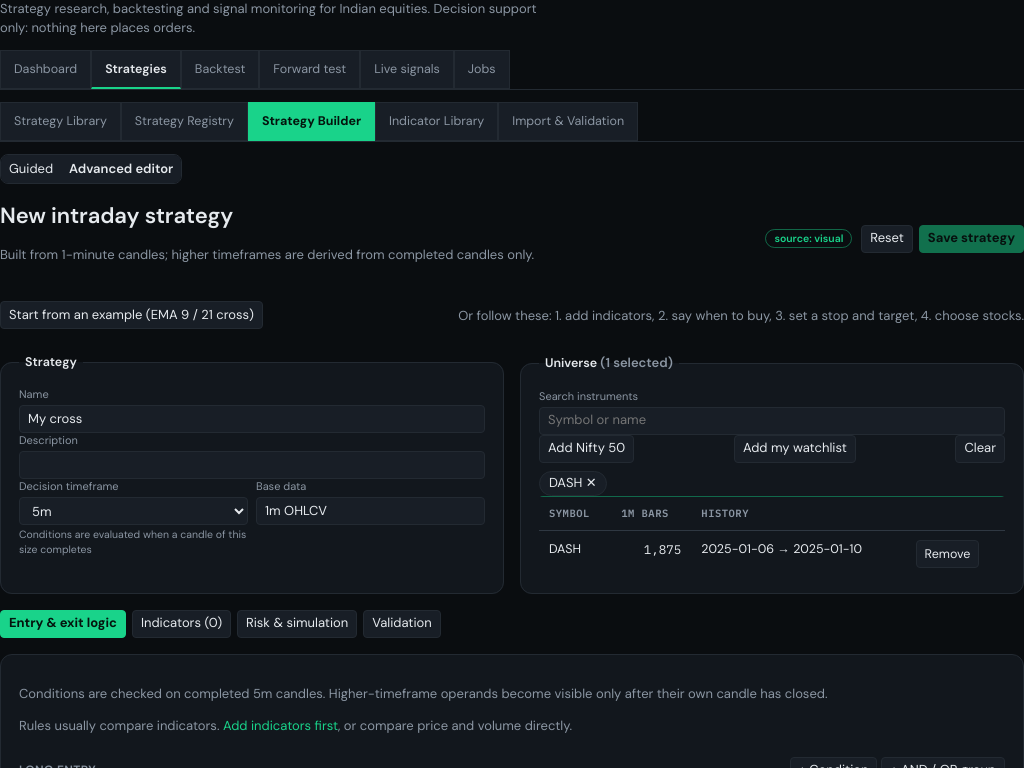
Test: Signals workspace › builder creates a strategy: nested AND/OR conditions, validation, and save payload
The width and height of the screenshot is (1024, 768).
Earlier steps of the test are not shown.
Later steps or results of the test are not shown.
Click the button "Indicators (0)" at (181, 624), box left=132, top=610, right=231, bottom=638
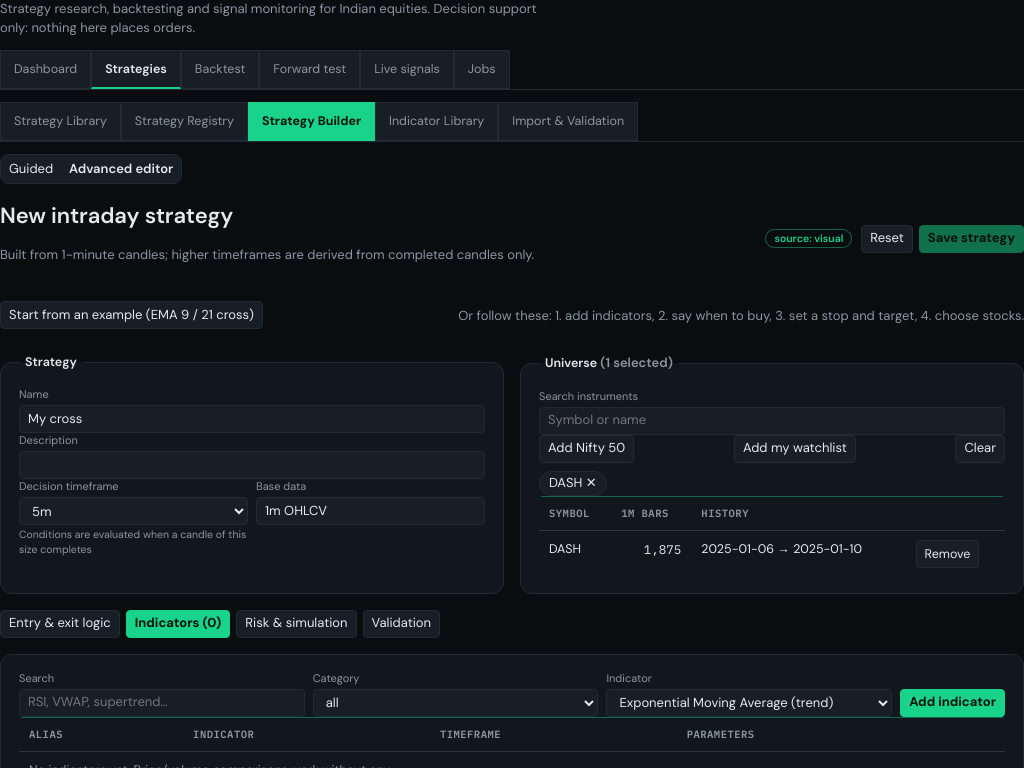
Select "Exponential Moving Average (trend)" in the dropdown named "Indicator to add" at (749, 703), box left=606, top=689, right=892, bottom=717
Click the button "Add indicator" at (953, 703), box left=900, top=689, right=1005, bottom=717
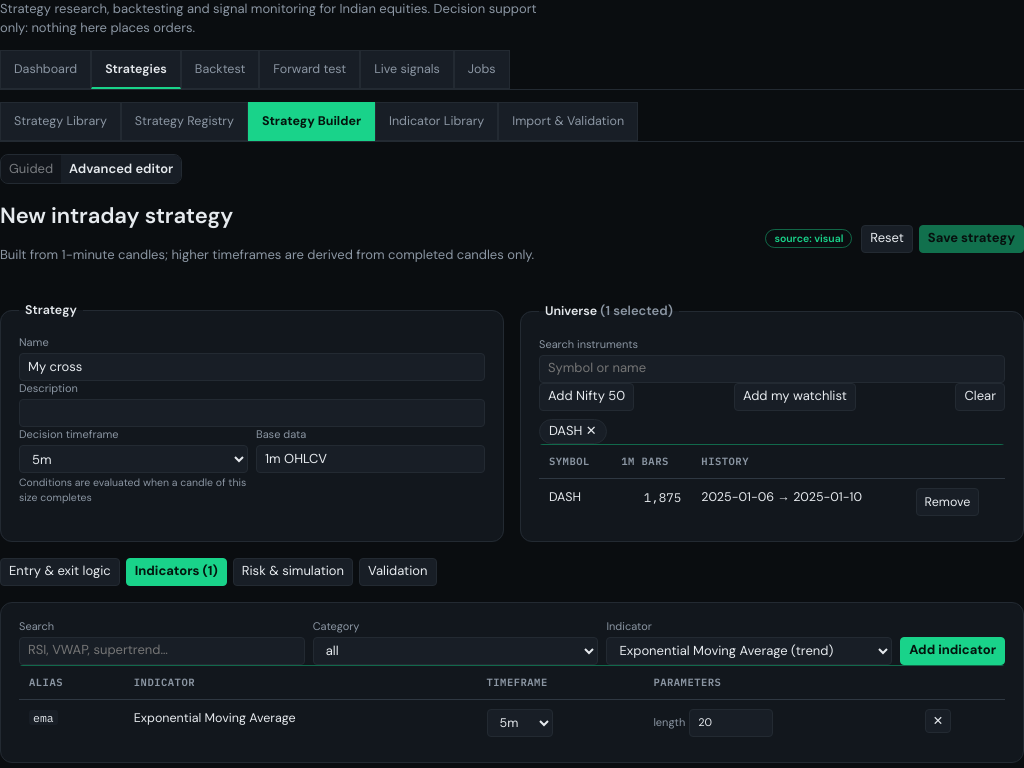
Click the button "Add indicator" at (953, 651), box left=900, top=637, right=1005, bottom=665
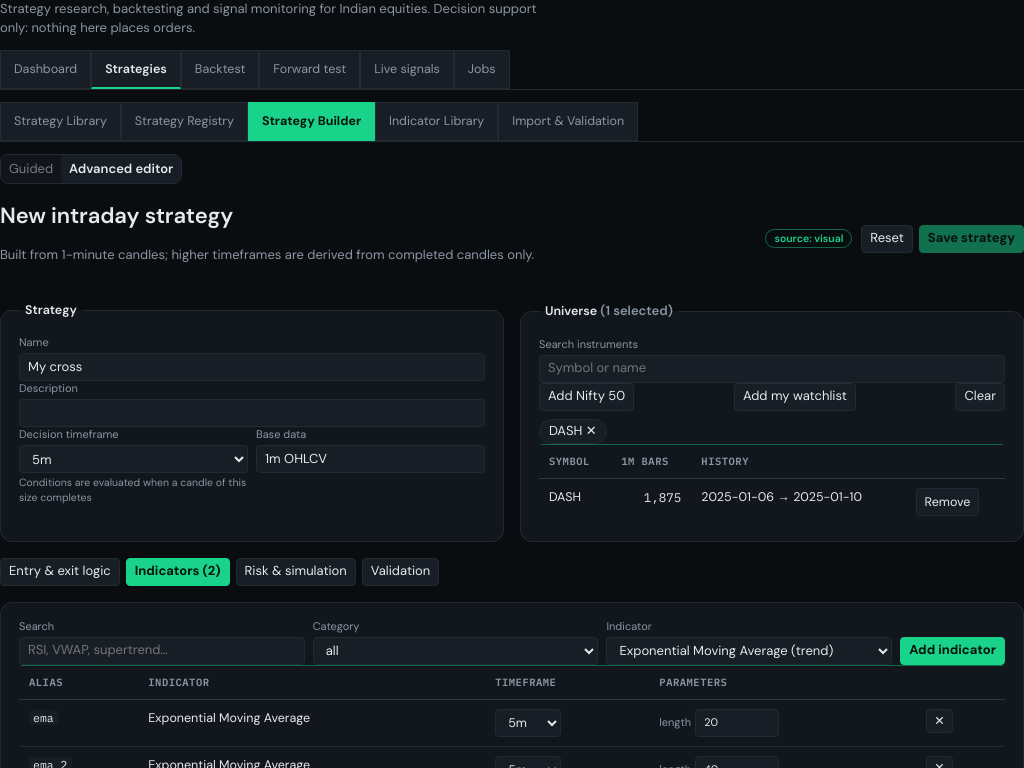
Check: the number field named "ema length" is shown, box left=695, top=709, right=779, bottom=737
Click the button "Entry & exit logic" at (60, 572), box left=0, top=558, right=120, bottom=586
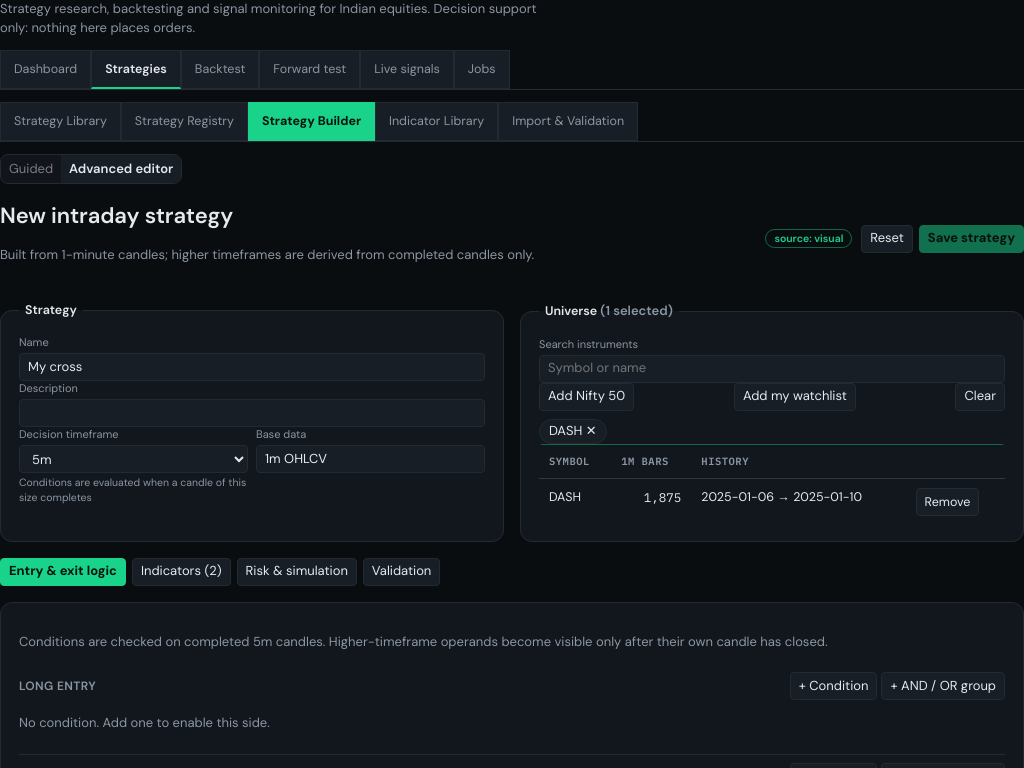
Click the button "+ AND / OR group" in the row of "Long entry" at (943, 686), box left=882, top=672, right=1005, bottom=700
(page scrolled)
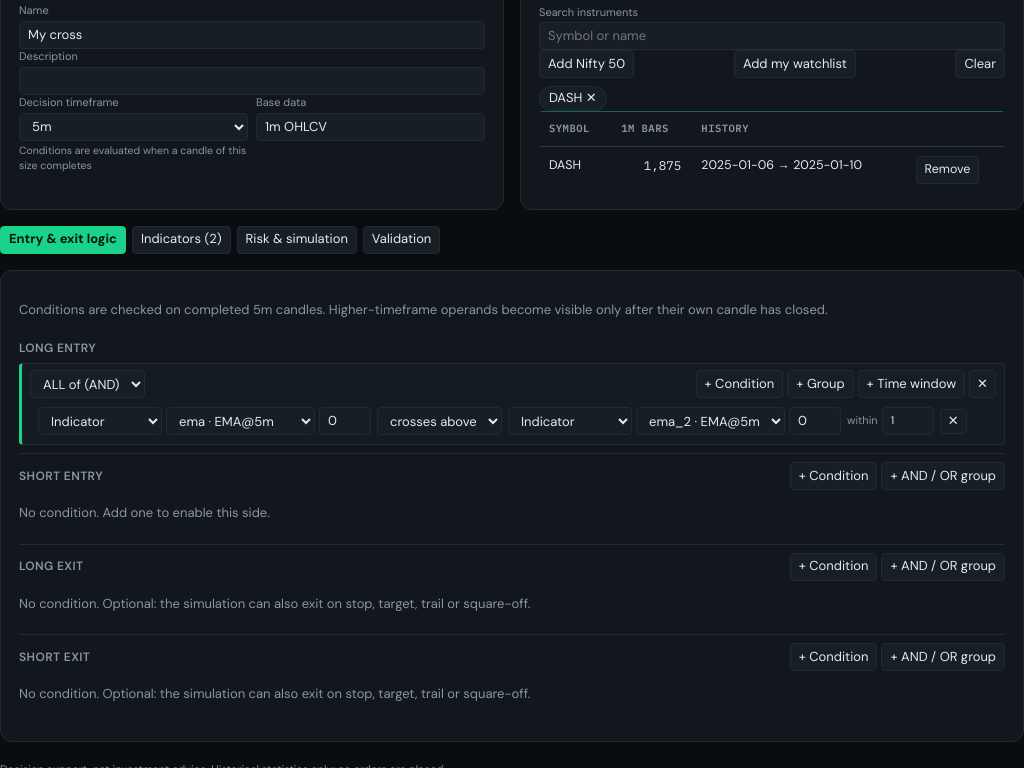
Click the button "+ Group" at (820, 384), box left=787, top=370, right=854, bottom=398
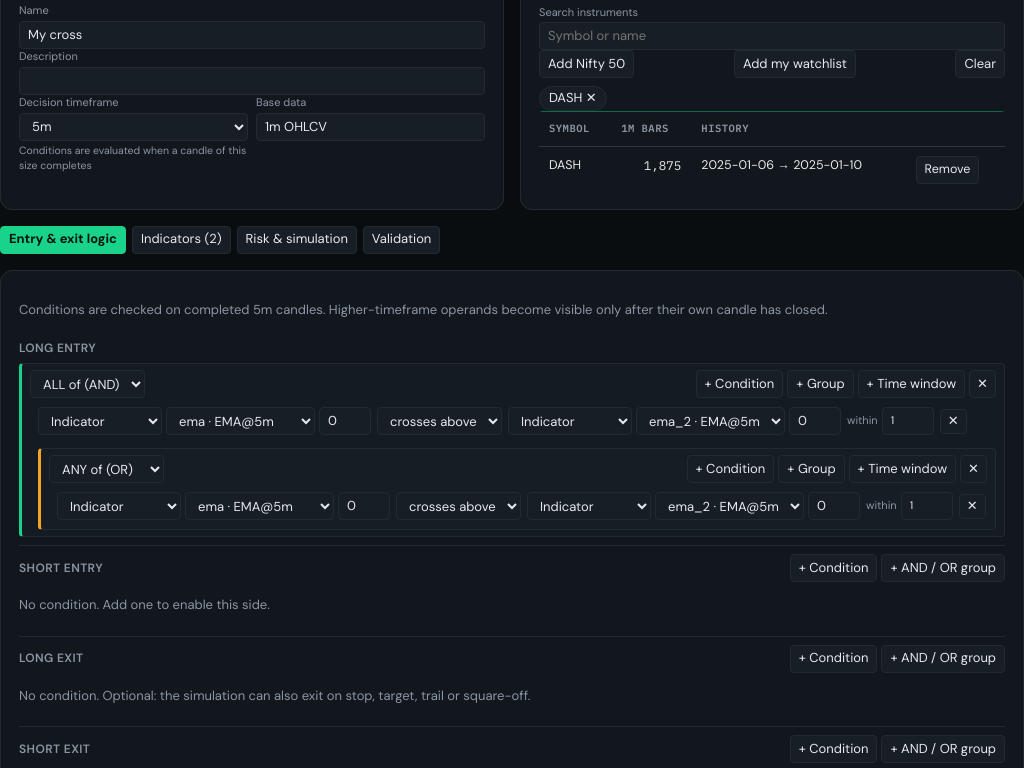
Check: the element named "OR group" is shown, box left=38, top=448, right=996, bottom=530
